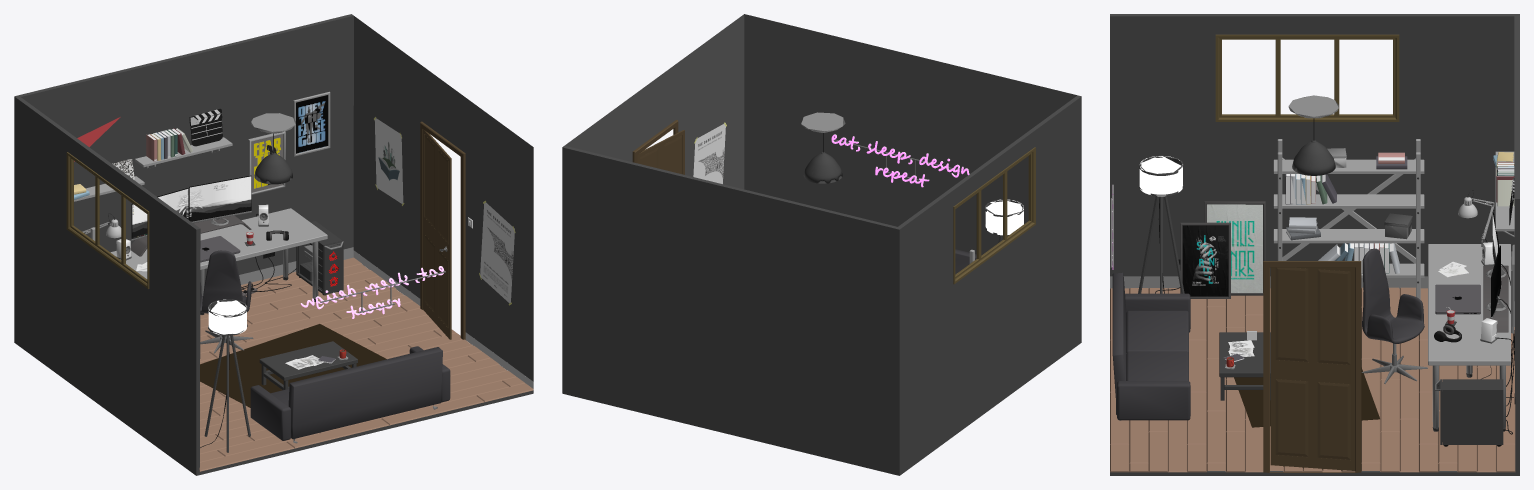
File: hacksetup.glb
3 renders of one model, left to right at view 1: azimuth 30°, elevation 25°; view 2: azimuth 150°, elevation 25°; view 3: azimuth 270°, elevation 25°, orthographic. The views are drawn at different scales.
Parts seen in each view (by area): view 1: Object_49, Object_51, Object_28, Object_110, Object_84, Object_3, Object_83, Object_85, Object_32, Object_44, Object_82, Object_77 (+16 smaller); view 2: Object_49, Object_51, Object_85, Object_84, Object_32, Object_104, Object_30, Object_99, Object_113; view 3: Object_49, Object_28, Object_84, Object_83, Object_110, Object_85, Object_77, Object_25, Object_26, Object_113, Object_70, Object_82 (+17 smaller).
Part boxes in pixels (<box>): Object_49: <box>14,14,533,475</box>; Object_51: <box>353,16,533,381</box>; Object_28: <box>199,257,533,471</box>; Object_110: <box>200,250,450,440</box>; Object_84: <box>420,121,465,339</box>; Object_3: <box>200,324,386,407</box>; Object_83: <box>74,137,327,278</box>; Object_85: <box>66,152,149,288</box>; Object_32: <box>480,202,514,303</box>; Object_44: <box>189,176,251,221</box>; Object_82: <box>259,341,357,389</box>; Object_77: <box>296,221,343,294</box>; Object_49: <box>562,95,1081,475</box>; Object_51: <box>565,14,1076,255</box>; Object_85: <box>953,147,1035,284</box>; Object_84: <box>632,120,684,174</box>; Object_32: <box>693,123,725,183</box>; Object_104: <box>831,134,969,187</box>; Object_30: <box>985,199,1023,235</box>; Object_99: <box>803,152,842,183</box>; Object_113: <box>801,112,845,132</box>; Object_49: <box>1110,14,1519,475</box>; Object_28: <box>1110,287,1515,472</box>; Object_84: <box>1263,261,1361,472</box>; Object_83: <box>1273,139,1514,365</box>; Object_110: <box>1112,248,1424,420</box>; Object_85: <box>1215,34,1399,121</box>; Object_77: <box>1279,177,1503,444</box>; Object_25: <box>1182,225,1228,296</box>; Object_26: <box>1207,204,1262,292</box>; Object_113: <box>1110,95,1427,288</box>; Object_70: <box>1224,157,1514,361</box>; Object_82: <box>1219,332,1270,400</box>.
Size of what is drawn, in the model's own units: 10.63 by 7.39 by 9.9.
Materials: 94 (17 with a texture image).
